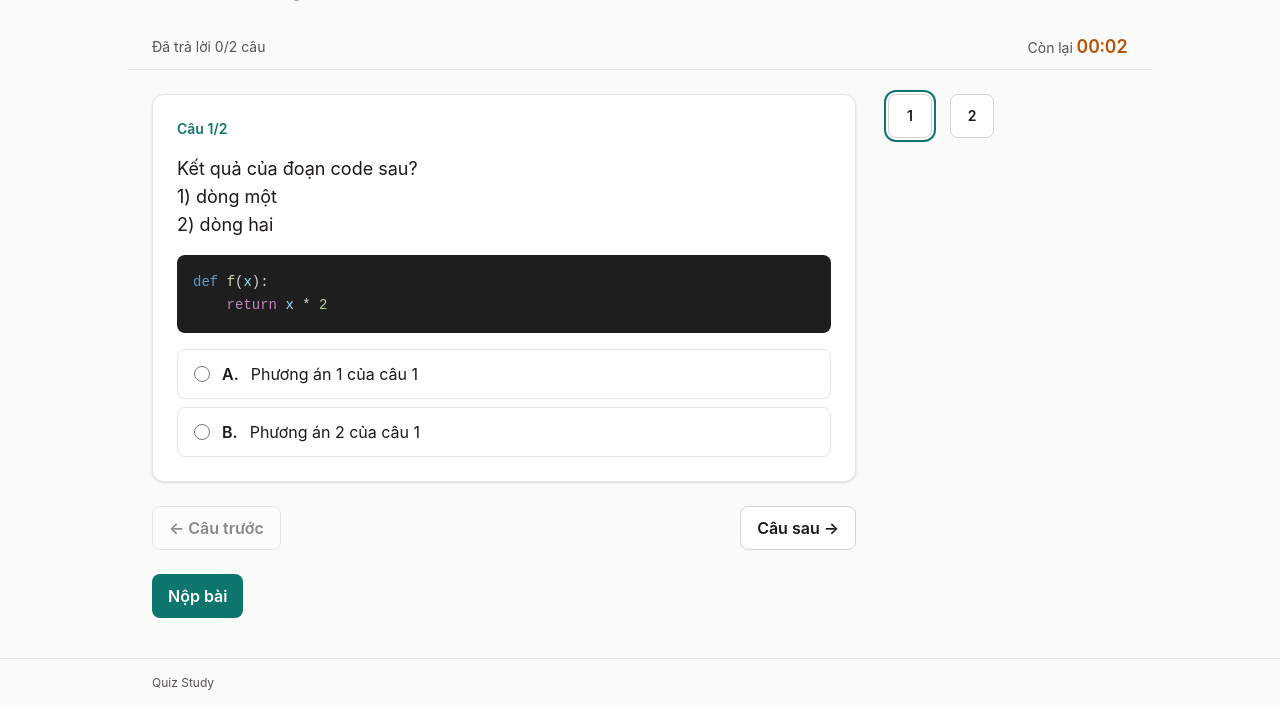
Test: AttemptPage – thi thử › sends only one submit when the countdown ends while the user is already submitting
(page scrolled)
Click the button "Nộp bài" at (198, 596), box [152,574,243,618]
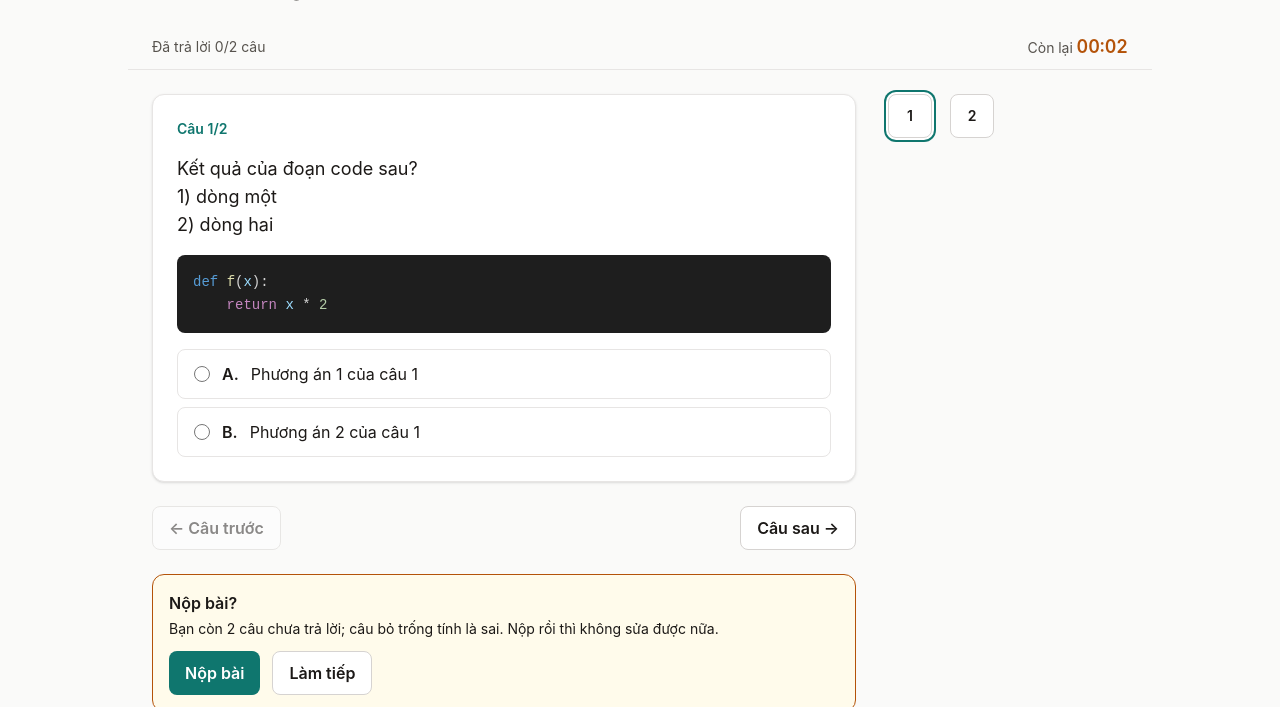
Click the button "Nộp bài" at (215, 672), box [169,650,260,694]
Wait 3000 ms
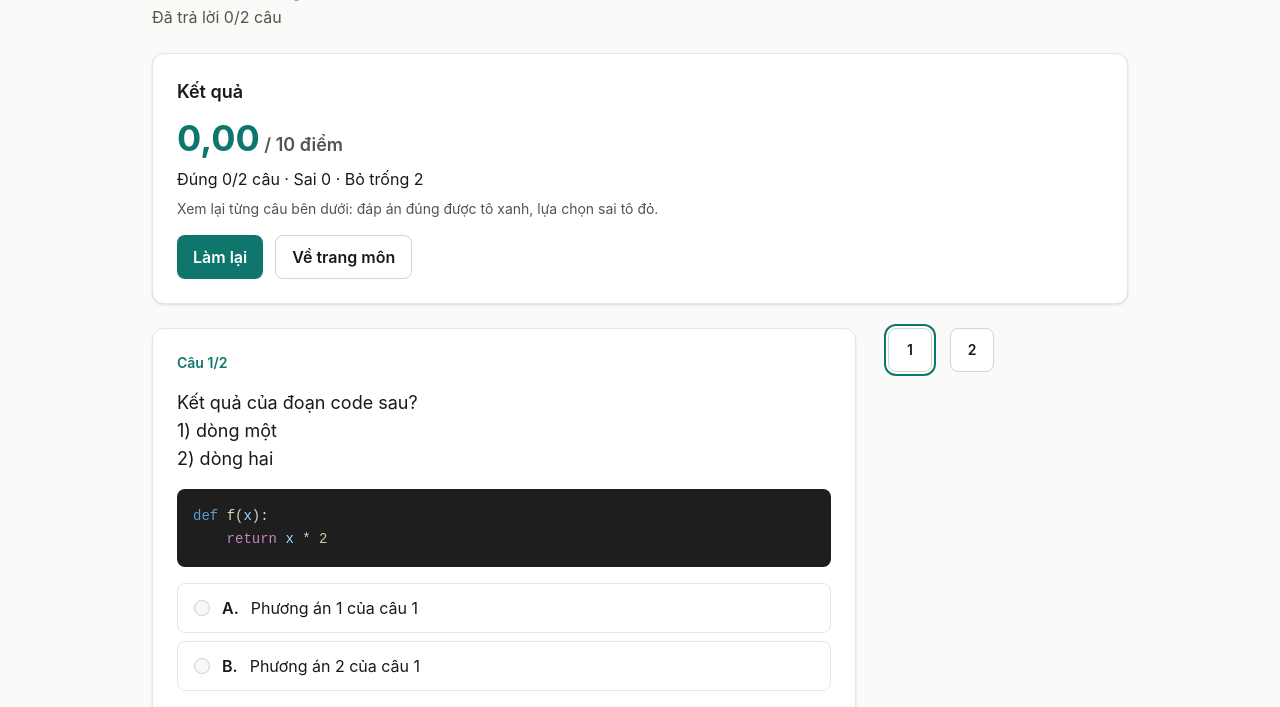
Result: the element "Kết quả" is shown at [152,53,1128,304]
